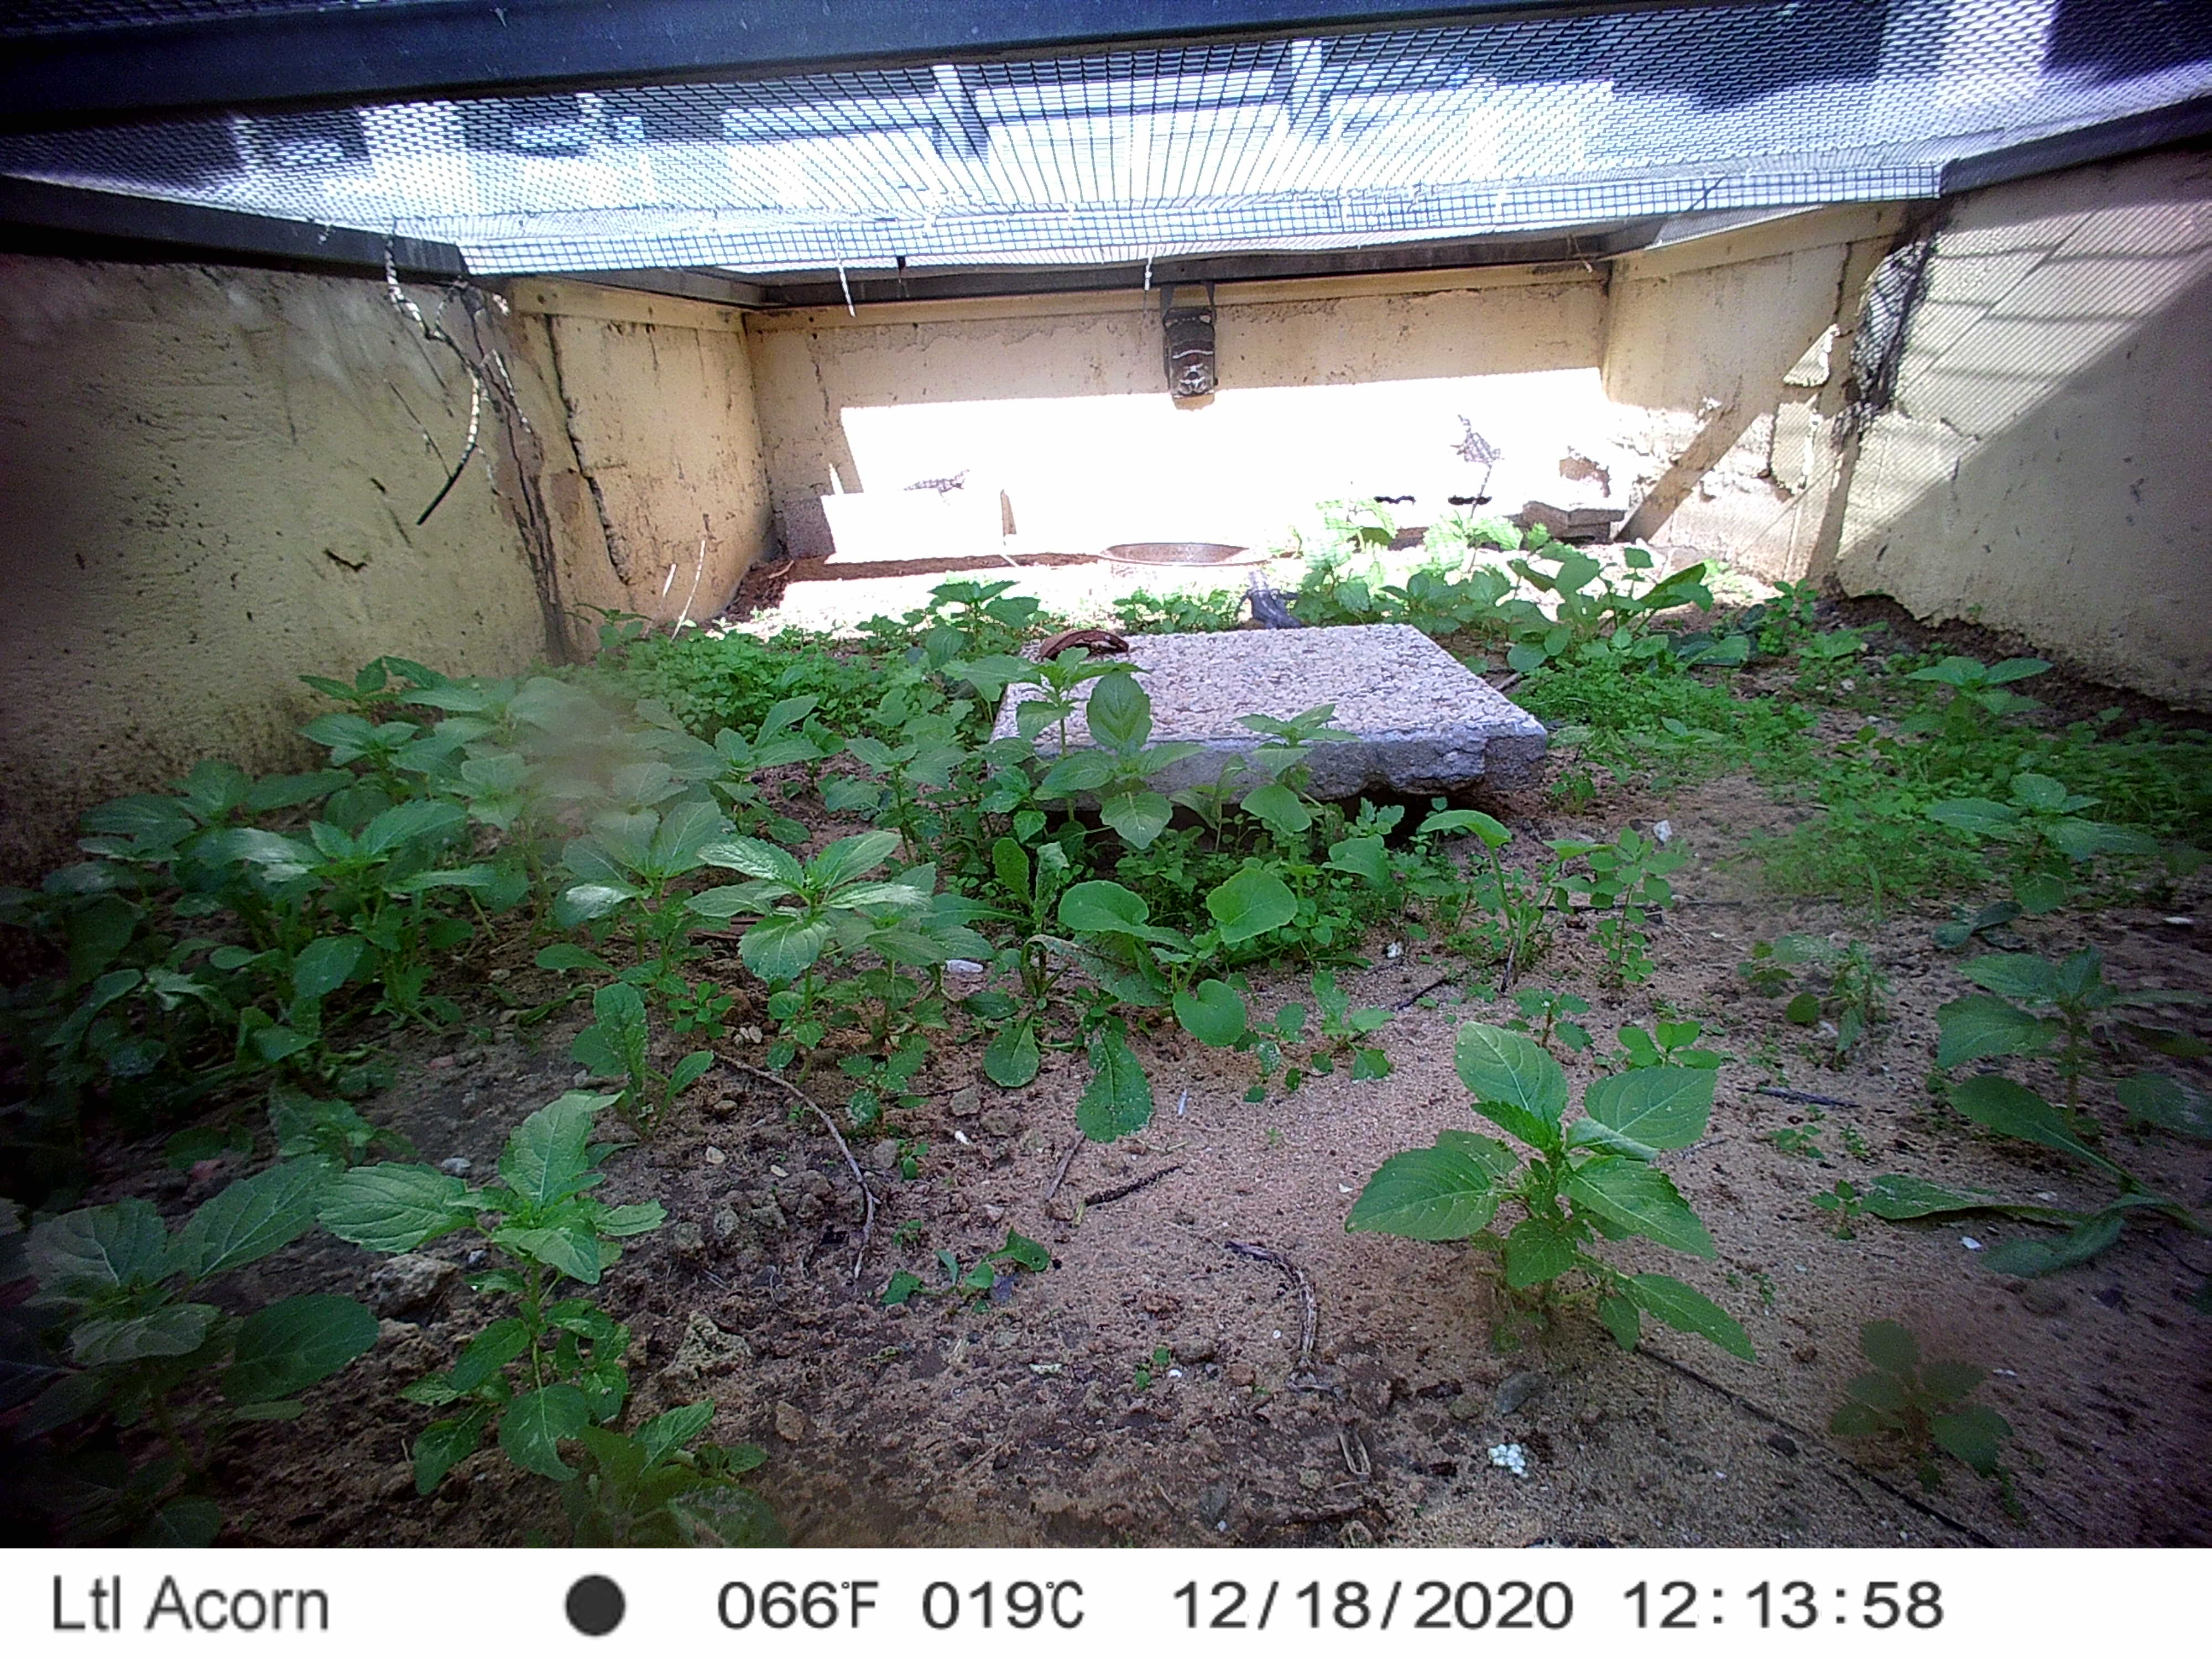lizard: (1442, 406, 1508, 523), (1233, 563, 1322, 645), (899, 467, 972, 502)
